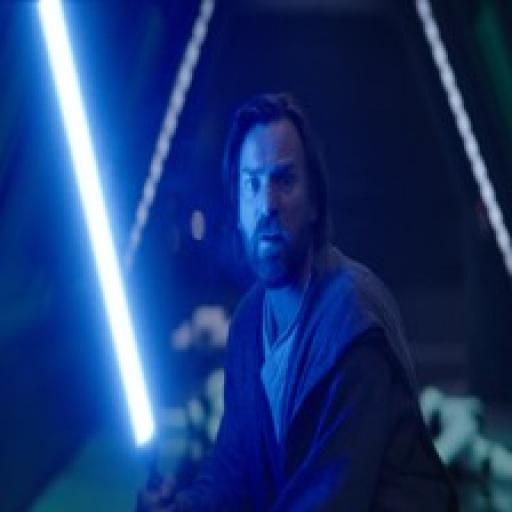human: (132, 93, 466, 512)
lightsaber: (32, 0, 180, 512)
